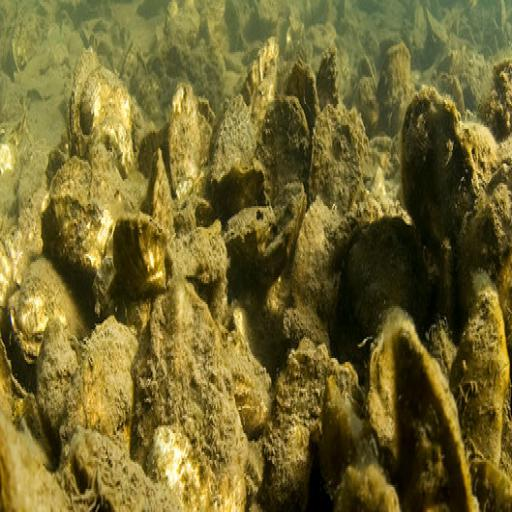Oyster-Closed: (132, 286, 252, 512), (268, 345, 370, 512), (391, 325, 477, 512), (401, 93, 484, 248), (346, 213, 435, 343), (451, 273, 508, 463), (291, 198, 357, 339), (65, 44, 138, 171), (43, 199, 122, 314), (70, 319, 141, 437), (369, 310, 419, 462), (259, 94, 312, 202), (312, 111, 369, 210), (114, 213, 168, 308), (38, 321, 79, 444), (209, 94, 260, 187), (227, 332, 275, 429), (10, 269, 59, 363), (143, 144, 177, 258), (168, 86, 201, 200), (41, 158, 96, 226), (244, 42, 280, 136), (218, 156, 268, 221), (380, 42, 412, 127), (177, 228, 229, 280), (285, 63, 319, 138), (471, 455, 512, 512), (320, 52, 346, 115), (431, 78, 468, 121)
